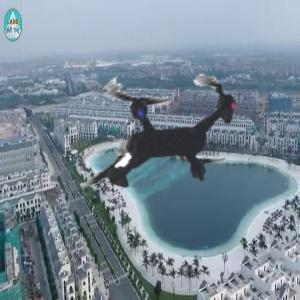drone: (32, 2, 293, 263)
